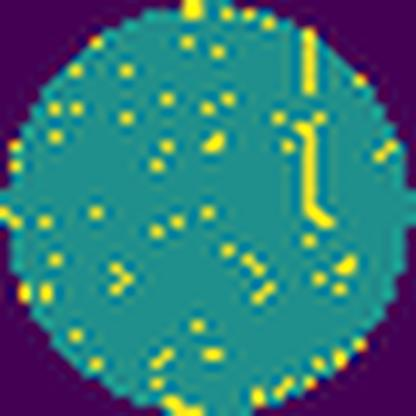Scratch: (290, 108, 341, 234), (298, 25, 318, 99)
